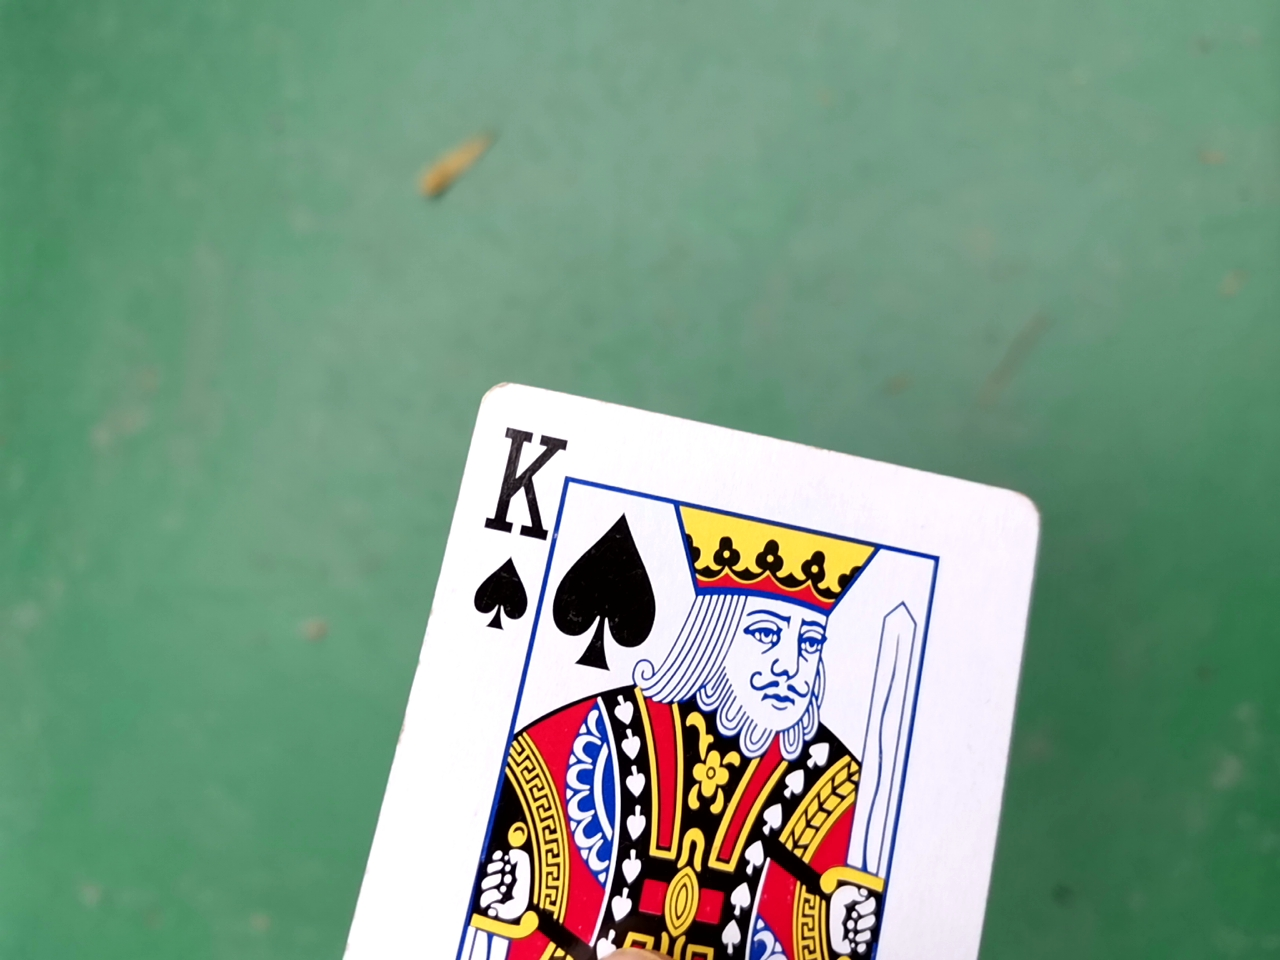ht k: (247, 362, 1040, 957)
